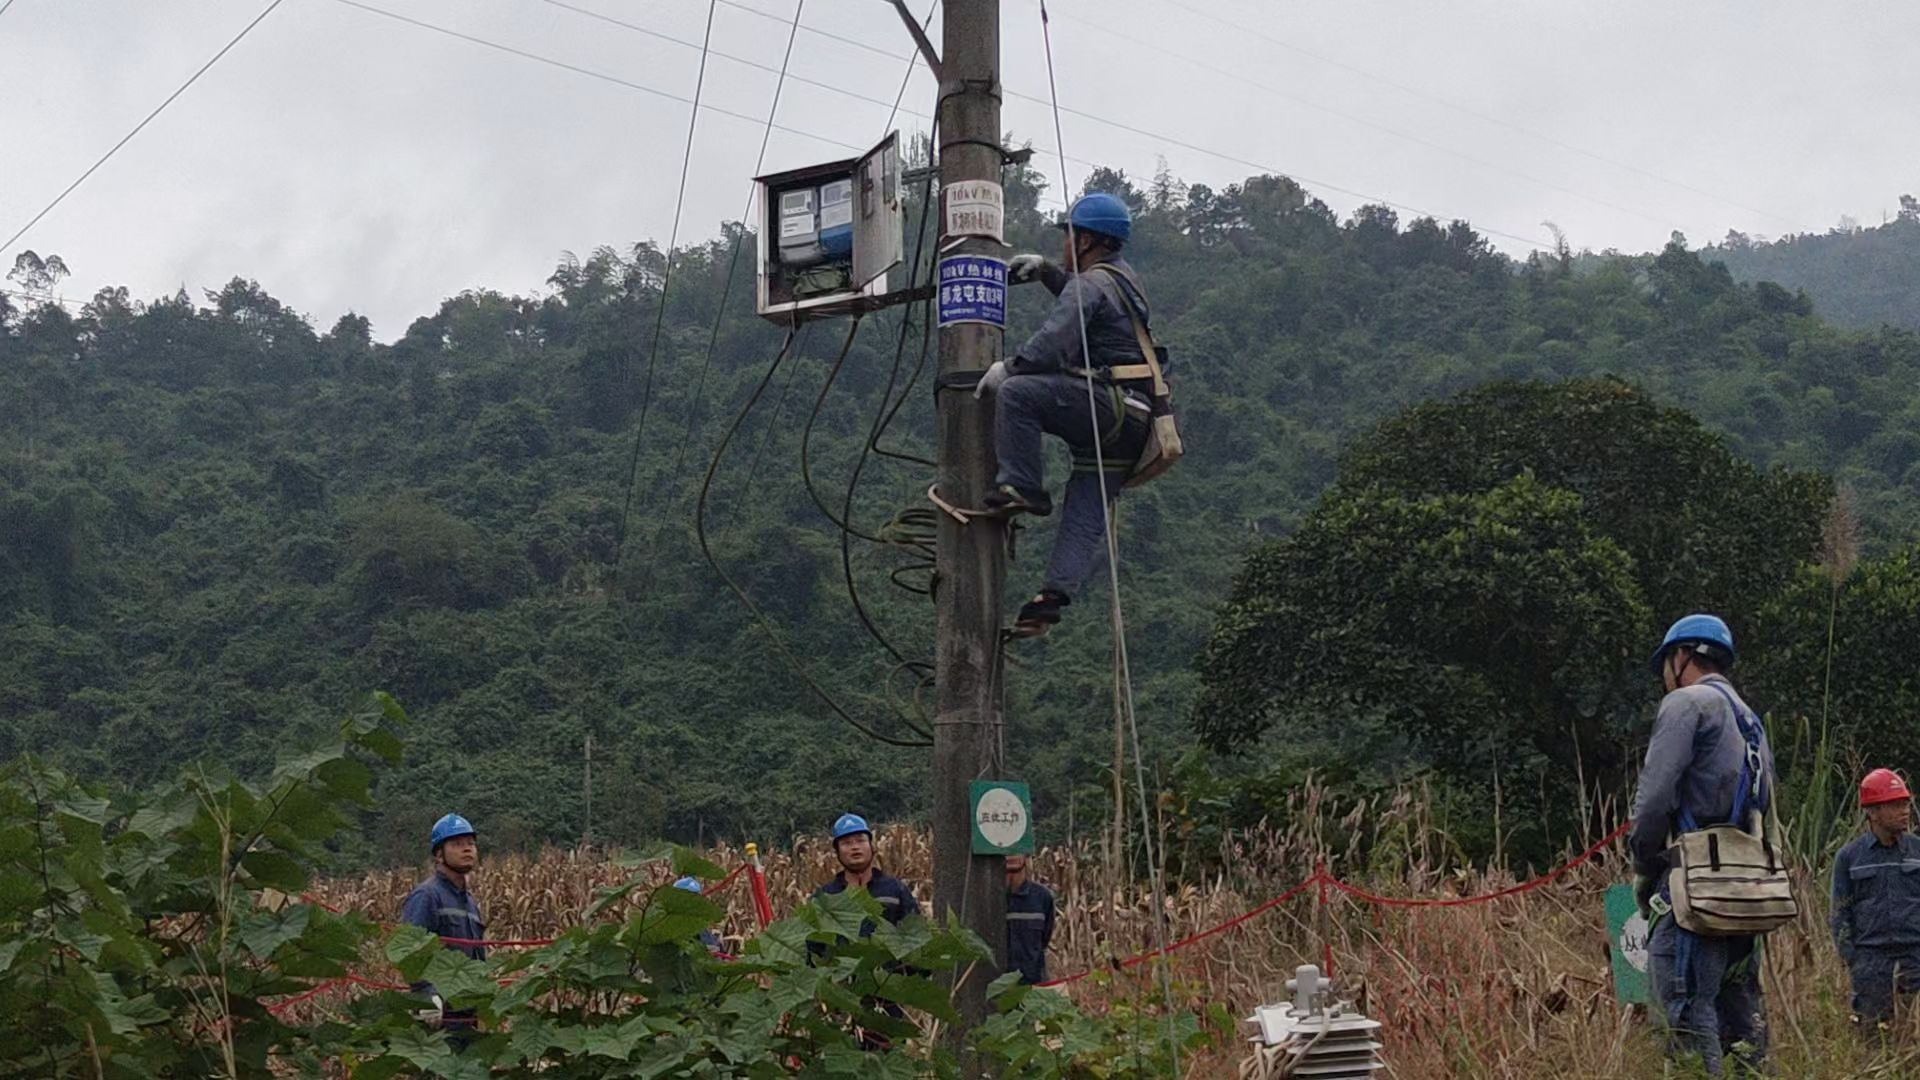downsuit: (997, 389, 1152, 593), (1646, 919, 1766, 1060)
halt: (1655, 613, 1738, 689), (1062, 190, 1134, 263), (1856, 768, 1916, 840), (427, 814, 481, 875), (830, 814, 877, 872)
inear: (1666, 646, 1692, 680), (1076, 230, 1097, 262)
intosign: (1599, 878, 1654, 1007)
person: (988, 188, 1174, 627), (1619, 606, 1782, 1077), (1824, 757, 1920, 1040), (396, 810, 493, 1048), (806, 811, 931, 927), (1006, 855, 1052, 978)
safebelt: (1652, 677, 1772, 1052)
upsuit: (1632, 679, 1767, 871), (1021, 260, 1165, 382), (1833, 833, 1920, 957), (407, 875, 487, 959), (1008, 891, 1054, 980)
wglove: (970, 362, 1015, 403), (1005, 248, 1036, 288)
worksign: (972, 784, 1027, 856)
